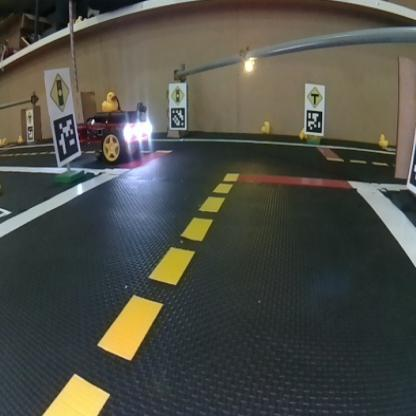duckie: (97, 87, 119, 113)
duckiebot: (74, 110, 155, 175)
